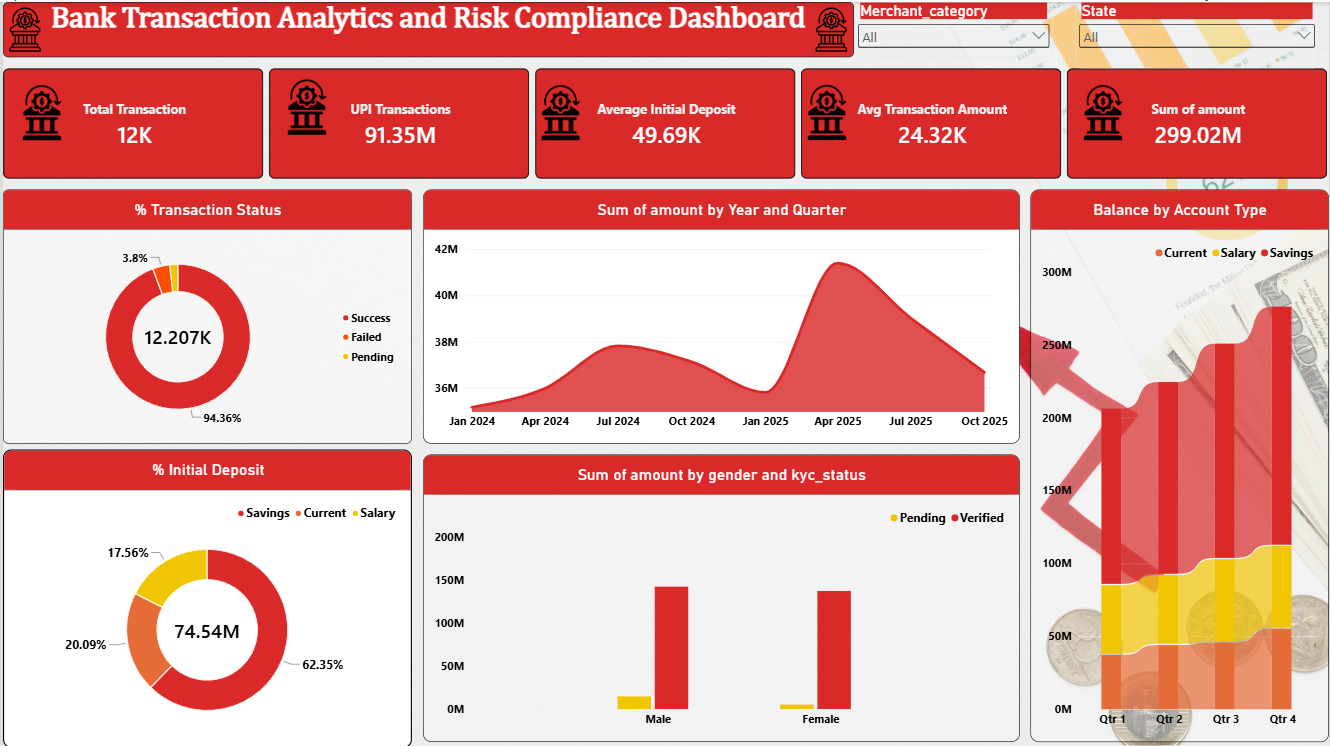

Layout of this report page (visuals, bound fields, positions):
{"tool":"powerbi","page":{"name":"Dashboard","canvas":[1920,1080],"ordinal":1},"visuals":[{"type":"textbox","box":[0,0,1232,80],"z":0},{"type":"cardVisual","fields":{"Data":["bank_transactions.Total Transaction","bank_transactions.UPI Transactions","account_holders.Average Initial Deposit","bank_transactions.Average Transaction Amount","Sum(bank_transactions.amount)"]},"box":[0,96,1920,160],"z":1000},{"type":"image","box":[0,0,64,80],"z":2000},{"type":"image","box":[1168,0,64,80],"z":3000},{"type":"image","box":[16,112,80,96],"z":4000},{"type":"image","box":[400,112,80,80],"z":5000},{"type":"image","box":[768,112,80,96],"z":6000},{"type":"image","box":[1152,96,80,128],"z":7000},{"type":"image","box":[1552,112,80,96],"z":8000},{"type":"donutChart","title":"% Transaction Status","fields":{"Category":["bank_transactions.transaction_status"],"Y":["CountNonNull(bank_transactions.transaction_id)"]},"box":[0,272,592,368],"z":9000},{"type":"donutChart","title":"% Initial Deposit","fields":{"Category":["account_holders.account_type"],"Y":["Sum(account_holders.initial_deposit)"]},"box":[0,648,592,432],"z":10000},{"type":"areaChart","fields":{"Category":["bank_transactions.transaction_date.Variation.Date Hierarchy.Year","bank_transactions.transaction_date.Variation.Date Hierarchy.Quarter"],"Y":["Sum(bank_transactions.amount)"]},"box":[608,272,864,368],"z":11000},{"type":"ribbonChart","title":"Balance by Account Type","fields":{"Category":["bank_transactions.transaction_date.Variation.Date Hierarchy.Quarter"],"Series":["account_holders.account_type"],"Y":["Sum(bank_transactions.balance_after_transaction)"]},"box":[1488,272,432,800],"z":12000},{"type":"clusteredColumnChart","fields":{"Category":["account_holders.gender"],"Series":["account_holders.kyc_status"],"Y":["Sum(bank_transactions.amount)"]},"box":[608,656,864,416],"z":13000},{"type":"slicer","fields":{"Values":["bank_transactions.merchant_category"]},"box":[1232,0,288,80],"z":14000},{"type":"slicer","fields":{"Values":["account_holders.state"]},"box":[1552,0,352,96],"z":15000}]}

Visuals, with their boxes in screenshot pixels (x1, y1, x2, y2), scaled from the page's 1920x1080 canvas onto the 1330x746 screenshot:
textbox: x1=0 y1=0 x2=853 y2=55
cardVisual - bank_transactions.Total Transaction x bank_transactions.UPI Transactions: x1=0 y1=66 x2=1329 y2=177
image: x1=0 y1=0 x2=44 y2=55
image: x1=809 y1=0 x2=853 y2=55
image: x1=11 y1=77 x2=66 y2=144
image: x1=277 y1=77 x2=332 y2=133
image: x1=532 y1=77 x2=587 y2=144
image: x1=798 y1=66 x2=853 y2=155
image: x1=1075 y1=77 x2=1130 y2=144
"% Transaction Status" donutChart: x1=0 y1=188 x2=410 y2=442
"% Initial Deposit" donutChart: x1=0 y1=448 x2=410 y2=745
areaChart - bank_transactions.transaction_date.Variation.Date Hierarchy.Year x bank_transactions.transaction_date.Variation.Date Hierarchy.Quarter: x1=421 y1=188 x2=1020 y2=442
"Balance by Account Type" ribbonChart: x1=1031 y1=188 x2=1329 y2=740
clusteredColumnChart - account_holders.gender x account_holders.kyc_status: x1=421 y1=453 x2=1020 y2=740
slicer - bank_transactions.merchant_category: x1=853 y1=0 x2=1053 y2=55
slicer - account_holders.state: x1=1075 y1=0 x2=1319 y2=66
